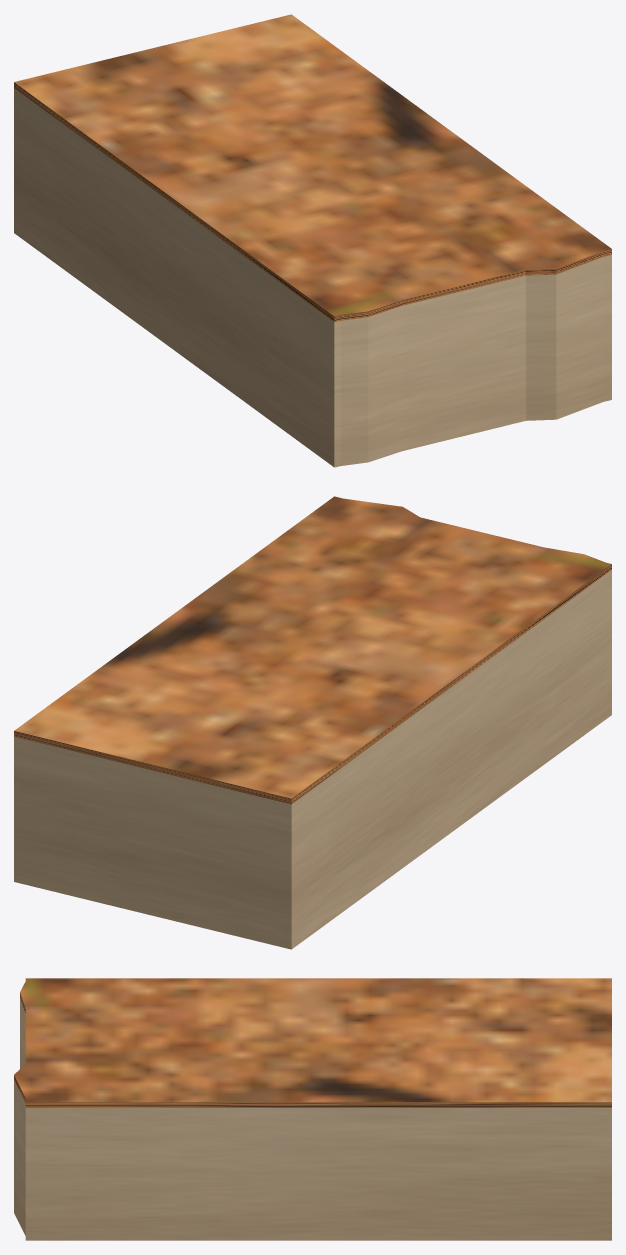
The model's file is Border_2(2).fbx.
3 renders of one model, top to bottom at view 1: azimuth 30°, elevation 25°; view 2: azimuth 150°, elevation 25°; view 3: azimuth 270°, elevation 25°, orthographic. The views are drawn at different scales.
Parts seen in each view (by area): view 1: BORDER_2_TOP, BORDER_2; view 2: BORDER_2_TOP, BORDER_2; view 3: BORDER_2, BORDER_2_TOP.
Boxes of the visible parts, box(x1,y1,x2,y2) form: BORDER_2_TOP: box(14, 14, 611, 322); BORDER_2: box(14, 88, 611, 467); BORDER_2_TOP: box(14, 496, 611, 804); BORDER_2: box(14, 570, 611, 949); BORDER_2: box(14, 998, 611, 1240); BORDER_2_TOP: box(14, 978, 611, 1107).
Bounding box in the file's own units: 5000 × 2600 × 10200.
Materials: 2 (2 with a texture image).
